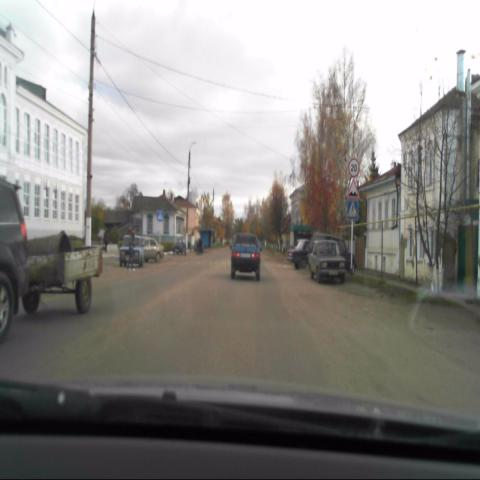1_16: (347, 180, 359, 199)
